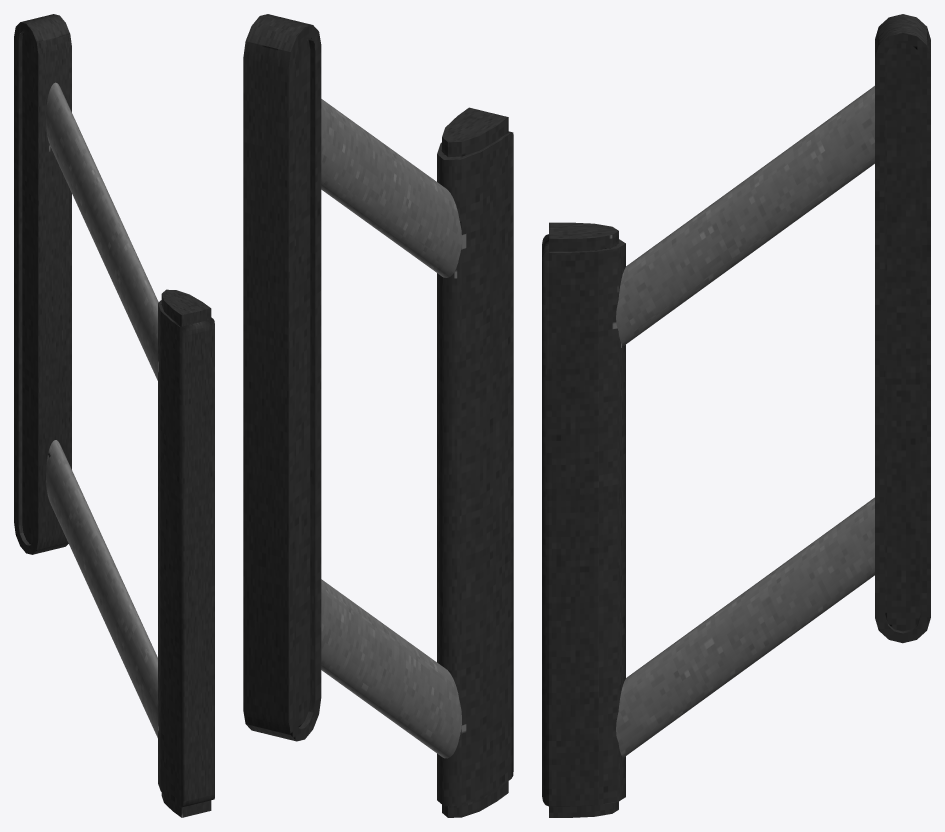
The model's file is stvorka.fbx.
3 views of the same model, side by side, from view 1: azimuth 30°, elevation 25°; view 2: azimuth 150°, elevation 25°; view 3: azimuth 270°, elevation 25° (orthographic). The views are drawn at different scales.
Parts seen in each view (by area): view 1: bake2; view 2: bake2; view 3: bake2.
Part boxes in pixels (box(x1,y1,x2,y2)): bake2: box(14, 14, 214, 817); bake2: box(243, 14, 513, 817); bake2: box(542, 14, 930, 817).
Size of the model in its own units: 8 by 155 by 69.5.
Materials: 1 (1 with a texture image).
